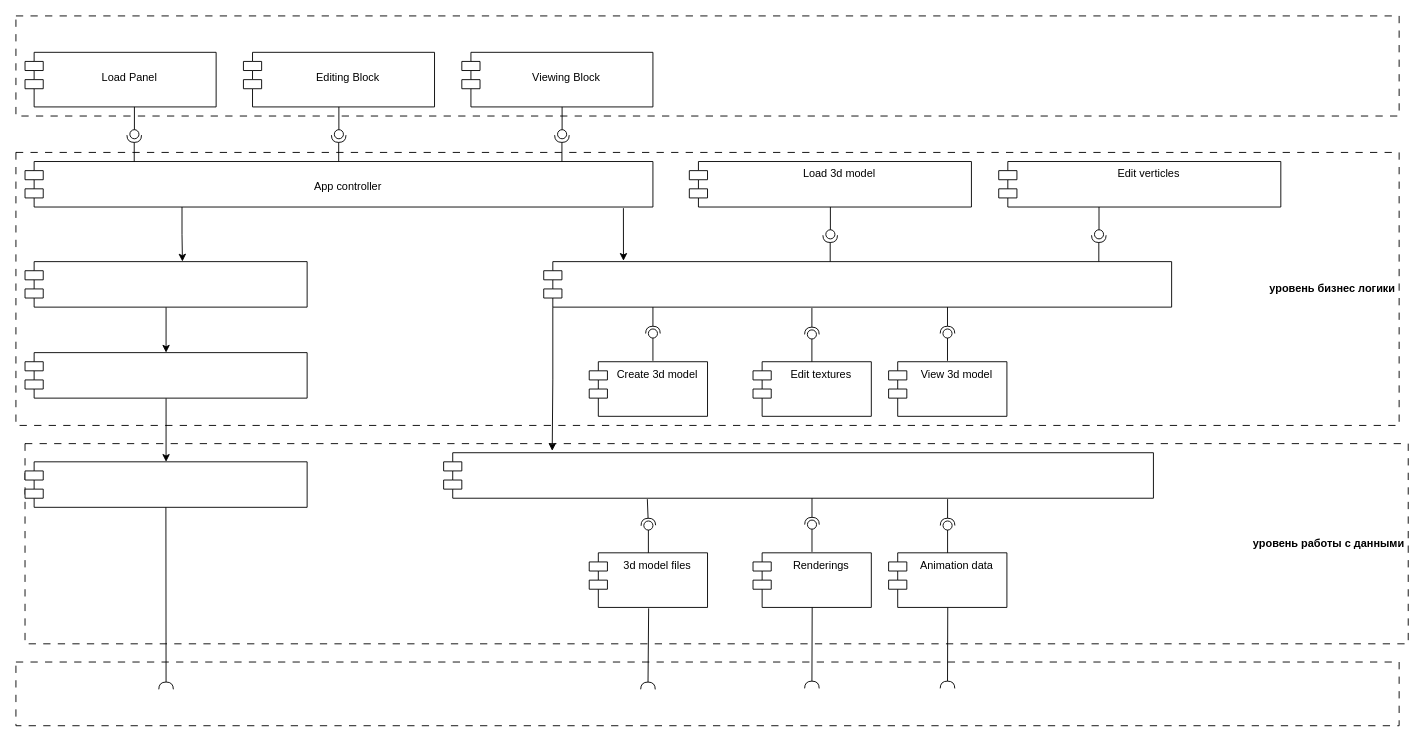
Image size: 1424x742. Some labels were removed from this diagram. The centre of each missing label's shape, as x and y in pixels:
"3D model controller" goes at point 857,284.
"File sustem controller" goes at point 798,475.
"Render" goes at point 165,375.
"Render controller" goes at point 165,284.
"Save render" goes at point 165,484.
"уровень пользовательского интерфейса" goes at point 707,65.
"файловая система" goes at point 707,693.
